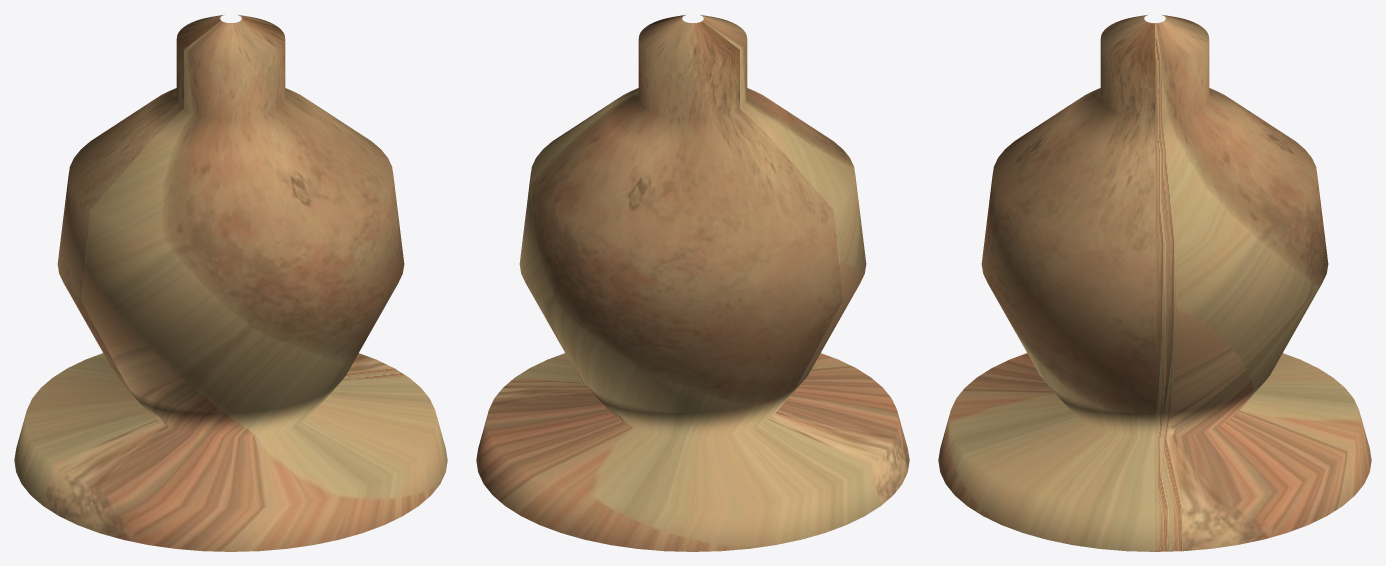
File: serve-bell.glb
3 renders of one model, left to right at view 1: azimuth 30°, elevation 25°; view 2: azimuth 150°, elevation 25°; view 3: azimuth 270°, elevation 25°, orthographic.
Size of the model in its own units: 0.08 by 0.09 by 0.08.
1 material, 1 textured.
